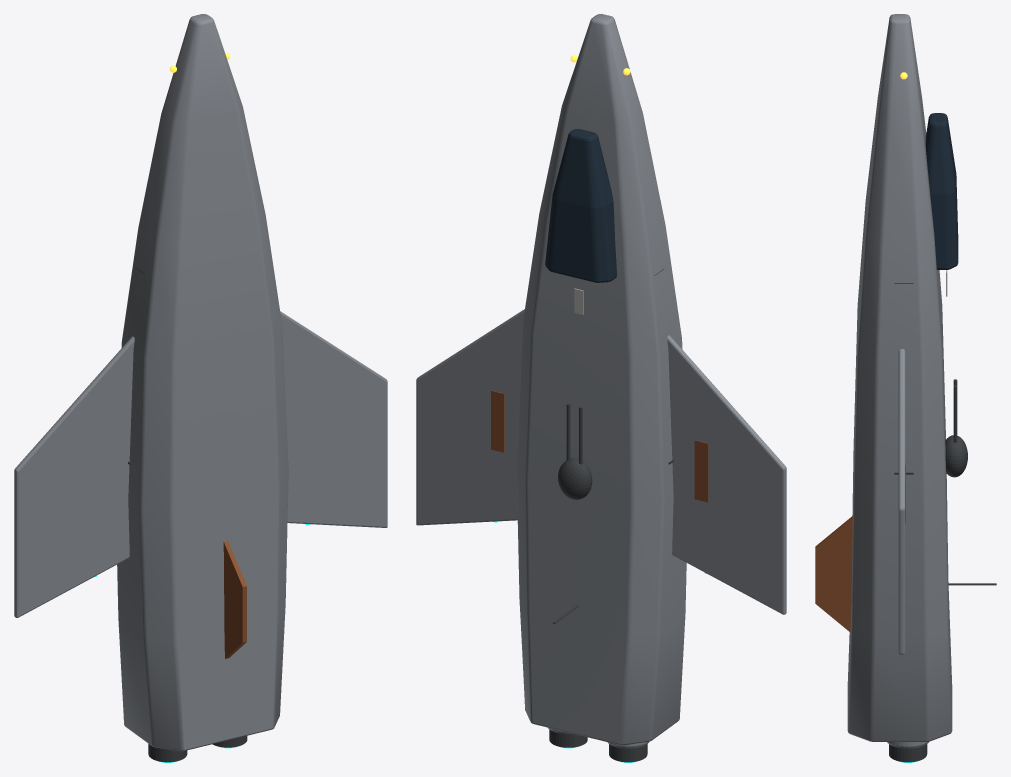
File: 6-cutter.glb
The picture shows the model from 3 angles, left to right: view 1: azimuth 30°, elevation 25°; view 2: azimuth 150°, elevation 25°; view 3: azimuth 270°, elevation 25°; orthographic projection.
Parts seen in each view (by area): view 1: hull, wing1, wing-1, keel; view 2: hull, wing1, wing-1, canopy, turret_dome, stripe, stripe.001; view 3: hull, canopy, keel, wing-1, turret_dome, nozzle_rim_-1.
Part boxes in pixels (box(x1,y1,x2,y2)): hull: box(117, 14, 288, 751); wing1: box(14, 336, 134, 617); wing-1: box(280, 311, 387, 527); keel: box(223, 541, 246, 658); hull: box(516, 14, 686, 745); wing1: box(667, 335, 786, 614); wing-1: box(416, 309, 524, 525); canopy: box(545, 129, 616, 282); turret_dome: box(558, 458, 592, 499); stripe: box(694, 440, 708, 502); stripe.001: box(491, 390, 504, 452); hull: box(847, 14, 952, 741); canopy: box(925, 113, 958, 269); keel: box(815, 516, 852, 631); wing-1: box(898, 349, 905, 654); turret_dome: box(945, 435, 967, 477); nozzle_rim_-1: box(889, 744, 927, 762).
Size of the model in its own units: 0.00525 by 0.00991 by 0.00225.
